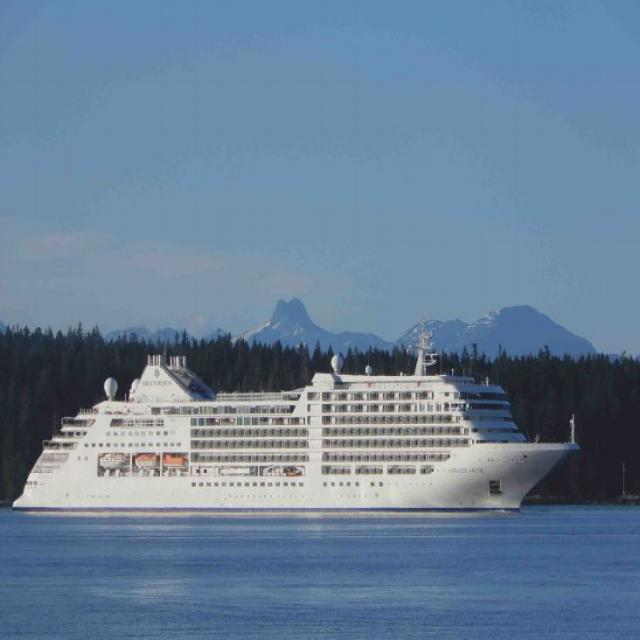cruises: (5, 313, 588, 528)
